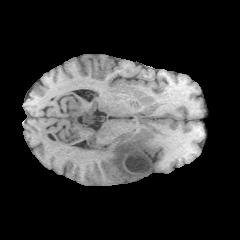glioma: (70, 132, 154, 180)
